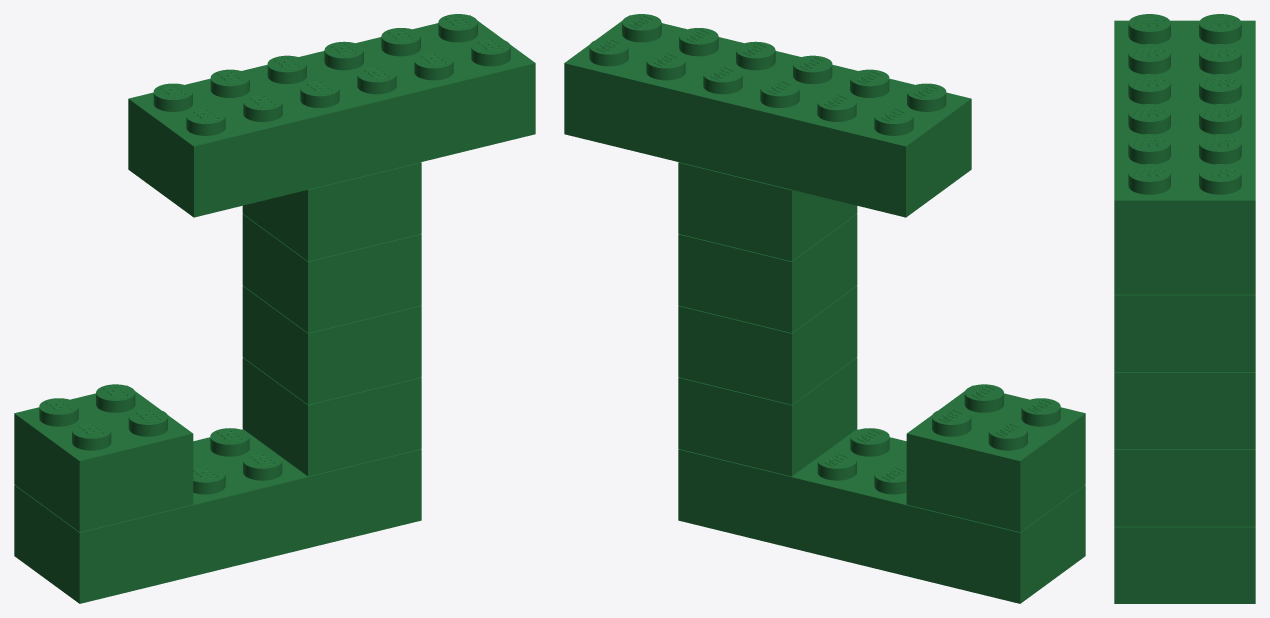
The picture shows the model from 3 angles, left to right: view 1: azimuth 30°, elevation 25°; view 2: azimuth 150°, elevation 25°; view 3: azimuth 270°, elevation 25°; orthographic projection. The views are drawn at different scales.
Visible parts, largest first — view 1: Inner-Node-J_dot_io-6, Inner-Node-J_dot_io-4, Inner-Node-J_dot_io-5, Inner-Node-J_dot_io-0, Inner-Node-J_dot_io-3, Inner-Node-J_dot_io-1, Inner-Node-J_dot_io-2; view 2: Inner-Node-J_dot_io-6, Inner-Node-J_dot_io-4, Inner-Node-J_dot_io-5, Inner-Node-J_dot_io-0, Inner-Node-J_dot_io-3, Inner-Node-J_dot_io-1, Inner-Node-J_dot_io-2; view 3: Inner-Node-J_dot_io-6, Inner-Node-J_dot_io-0, Inner-Node-J_dot_io-1, Inner-Node-J_dot_io-3, Inner-Node-J_dot_io-4, Inner-Node-J_dot_io-2.
Boxes of the visible parts, x1,y1,x2,y2 form: Inner-Node-J_dot_io-6: [128, 14, 535, 217]; Inner-Node-J_dot_io-4: [14, 428, 421, 603]; Inner-Node-J_dot_io-5: [14, 384, 193, 531]; Inner-Node-J_dot_io-0: [242, 357, 421, 476]; Inner-Node-J_dot_io-3: [242, 286, 421, 404]; Inner-Node-J_dot_io-1: [242, 214, 421, 332]; Inner-Node-J_dot_io-2: [242, 162, 421, 261]; Inner-Node-J_dot_io-6: [564, 14, 971, 217]; Inner-Node-J_dot_io-4: [678, 428, 1085, 603]; Inner-Node-J_dot_io-5: [906, 384, 1085, 531]; Inner-Node-J_dot_io-0: [678, 357, 857, 476]; Inner-Node-J_dot_io-3: [678, 286, 857, 404]; Inner-Node-J_dot_io-1: [678, 214, 857, 332]; Inner-Node-J_dot_io-2: [678, 162, 857, 261]; Inner-Node-J_dot_io-6: [1114, 14, 1255, 277]; Inner-Node-J_dot_io-0: [1114, 449, 1255, 526]; Inner-Node-J_dot_io-1: [1114, 294, 1255, 371]; Inner-Node-J_dot_io-3: [1114, 372, 1255, 449]; Inner-Node-J_dot_io-4: [1114, 526, 1255, 603]; Inner-Node-J_dot_io-2: [1114, 277, 1255, 294].
Size of the model in its own units: 160 by 148 by 39.75.
